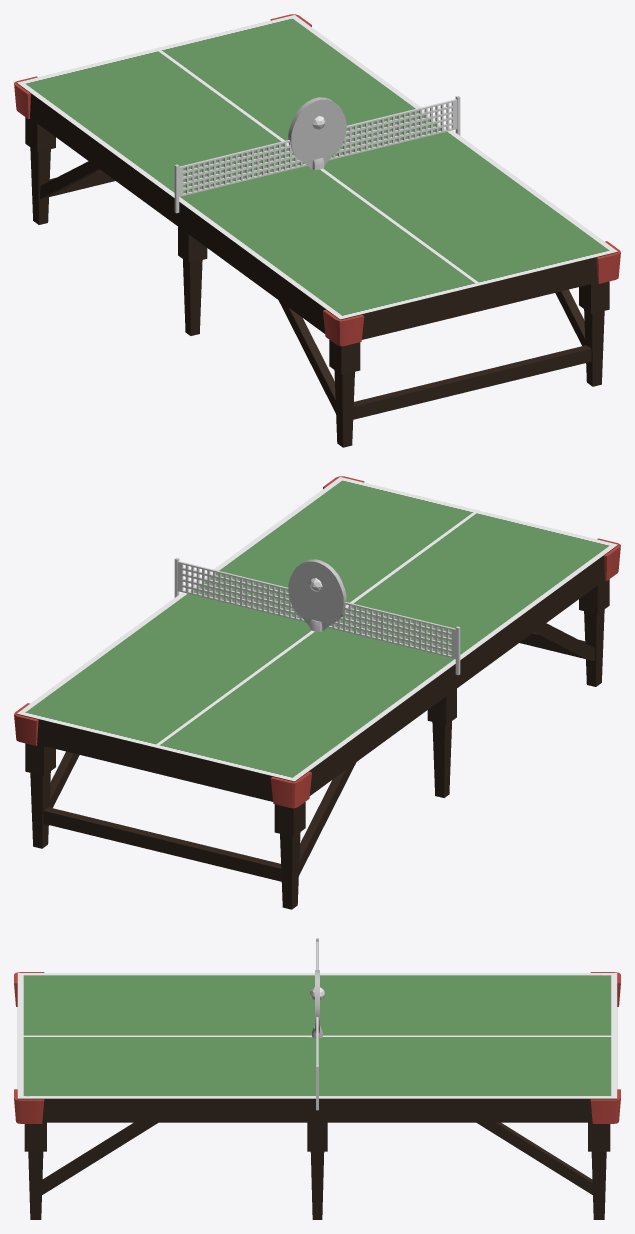
File: models.fbx
3 renders of one model, top to bottom at view 1: azimuth 30°, elevation 25°; view 2: azimuth 150°, elevation 25°; view 3: azimuth 270°, elevation 25°, orthographic. The views are drawn at different scales.
Parts seen in each view (by area): view 1: Table, Net, Racket; view 2: Table, Net, Racket; view 3: Table.
Boxes of the visible parts, x1,y1,x2,y2 form: Table: (14, 14, 620, 447); Net: (174, 95, 460, 213); Racket: (288, 97, 346, 169); Table: (14, 476, 620, 909); Net: (174, 557, 460, 675); Racket: (288, 559, 346, 631); Table: (14, 972, 620, 1219).
Bounding box in the file's own units: 453 × 310 × 905.
